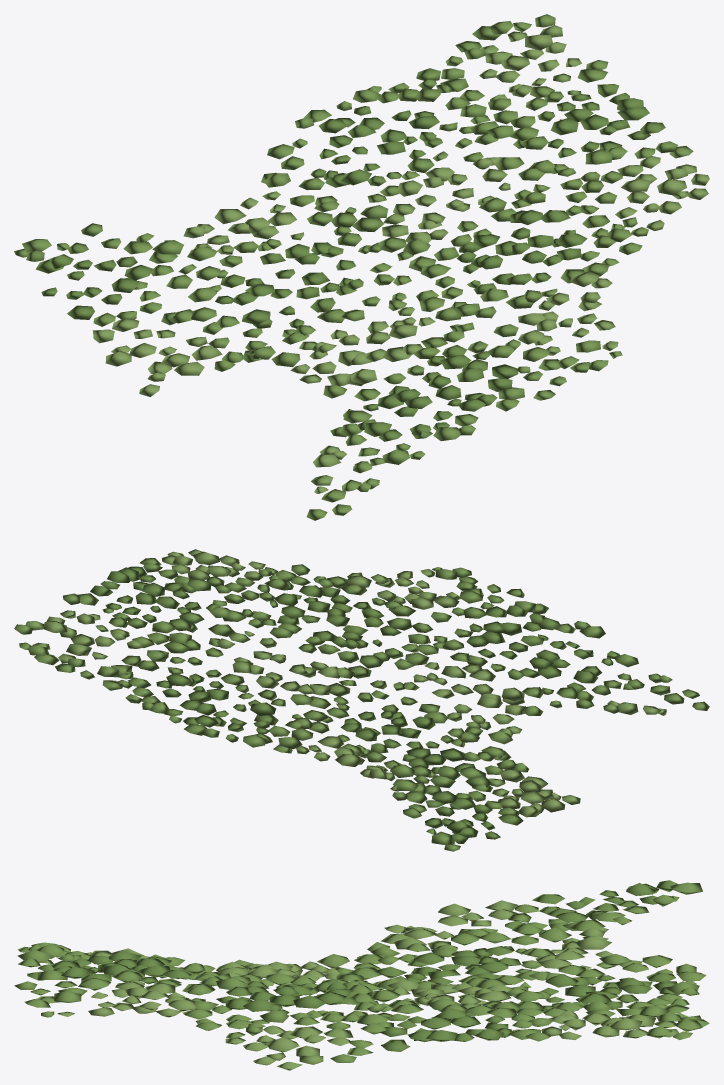
File: canopy-1-1--3.glb
3 views of the same model, one above another, from view 1: azimuth 30°, elevation 25°; view 2: azimuth 150°, elevation 25°; view 3: azimuth 270°, elevation 25° (orthographic). The views are drawn at different scales.
Size of the model in its own units: 518 by 162 by 518.
Materials: 1 (1 with a texture image).
